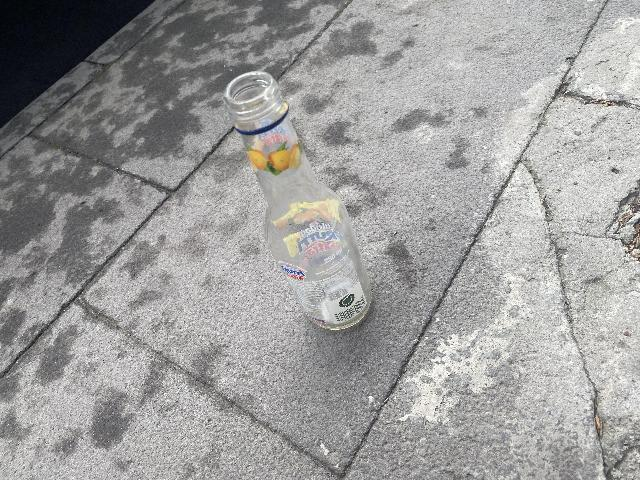Cam: (214, 76, 386, 335)
Plastik: (240, 132, 321, 173)
